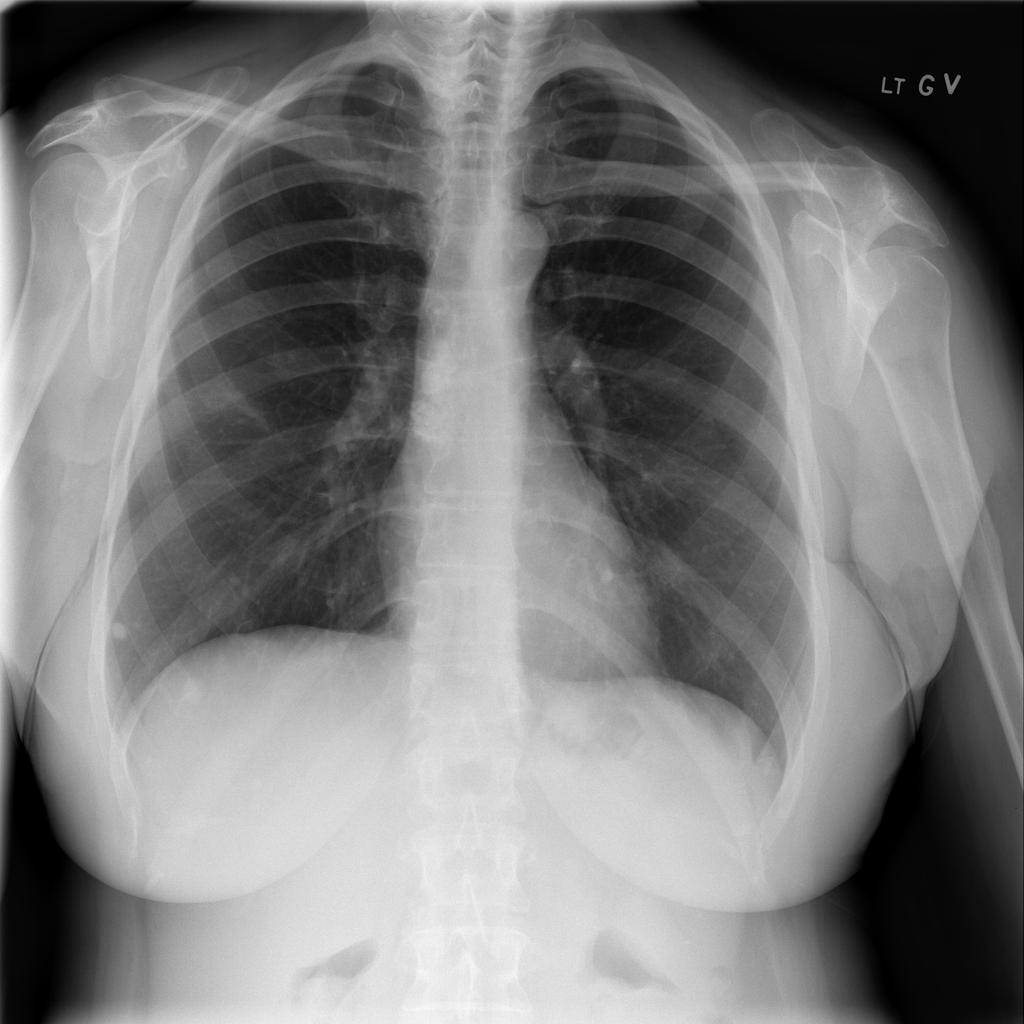nodule: (538, 676, 616, 757), (156, 653, 224, 726), (104, 611, 138, 650)
